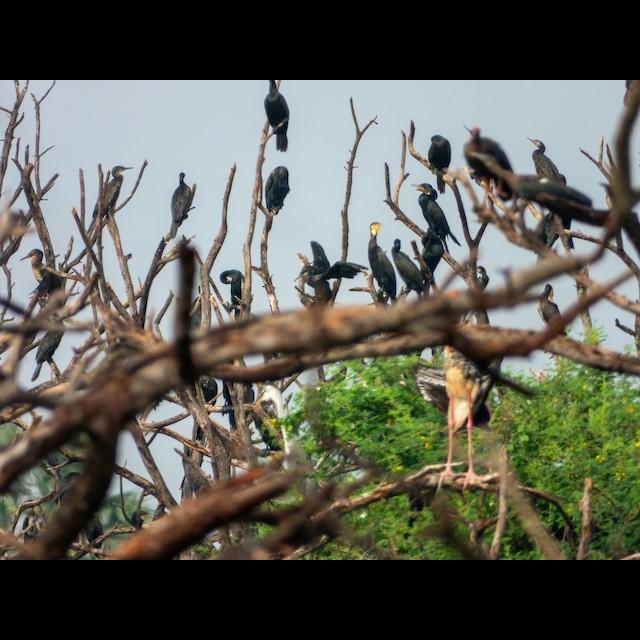cormorant: (293, 238, 359, 304), (458, 122, 512, 196), (256, 80, 298, 152), (90, 166, 134, 230), (28, 308, 66, 379), (368, 221, 400, 303), (415, 184, 457, 246), (163, 169, 197, 237), (17, 248, 61, 292), (260, 164, 294, 220), (522, 134, 560, 182), (216, 268, 250, 312), (427, 130, 455, 182)
